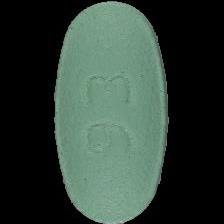66336-666: (0, 0, 224, 224)
